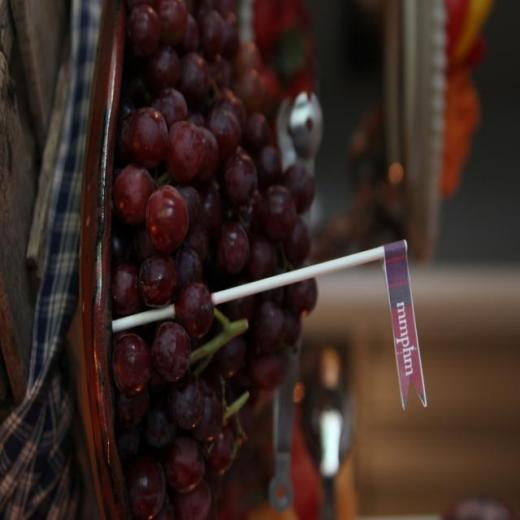Orange: (109, 0, 318, 519)
